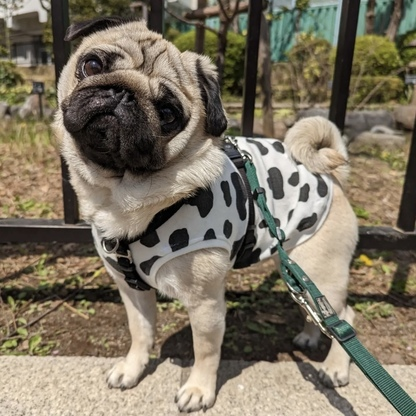Pug: (45, 9, 367, 416)
